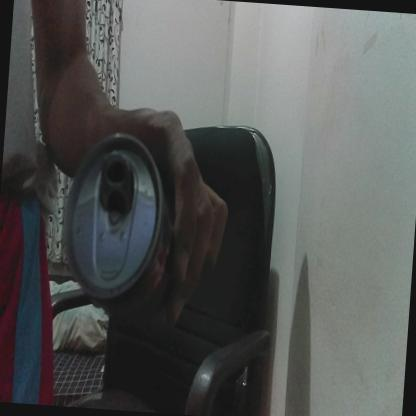alumunium_can: (58, 134, 180, 322)
